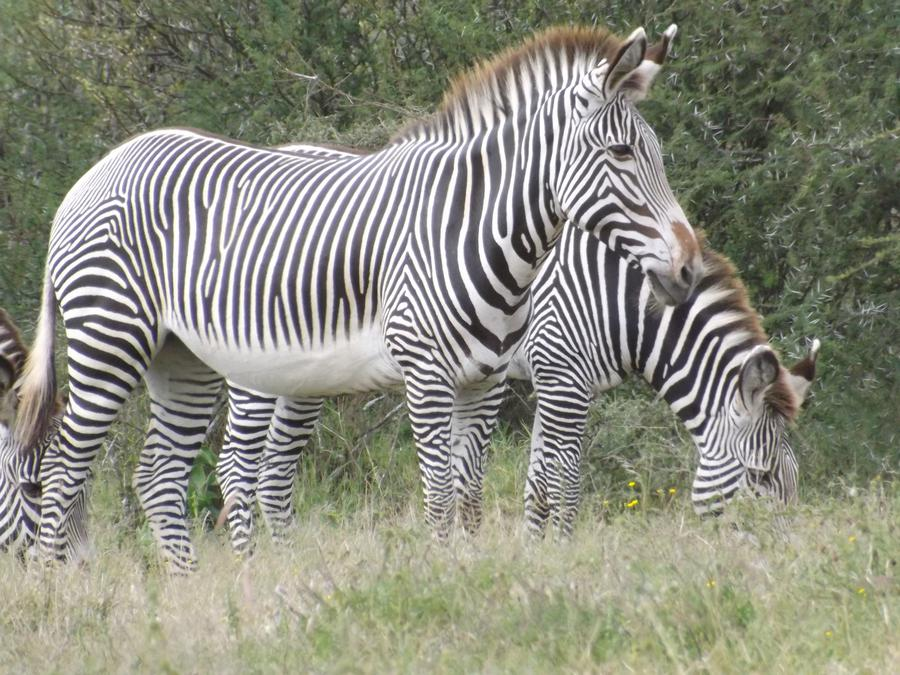zebra_grevys: (33, 107, 476, 386)
